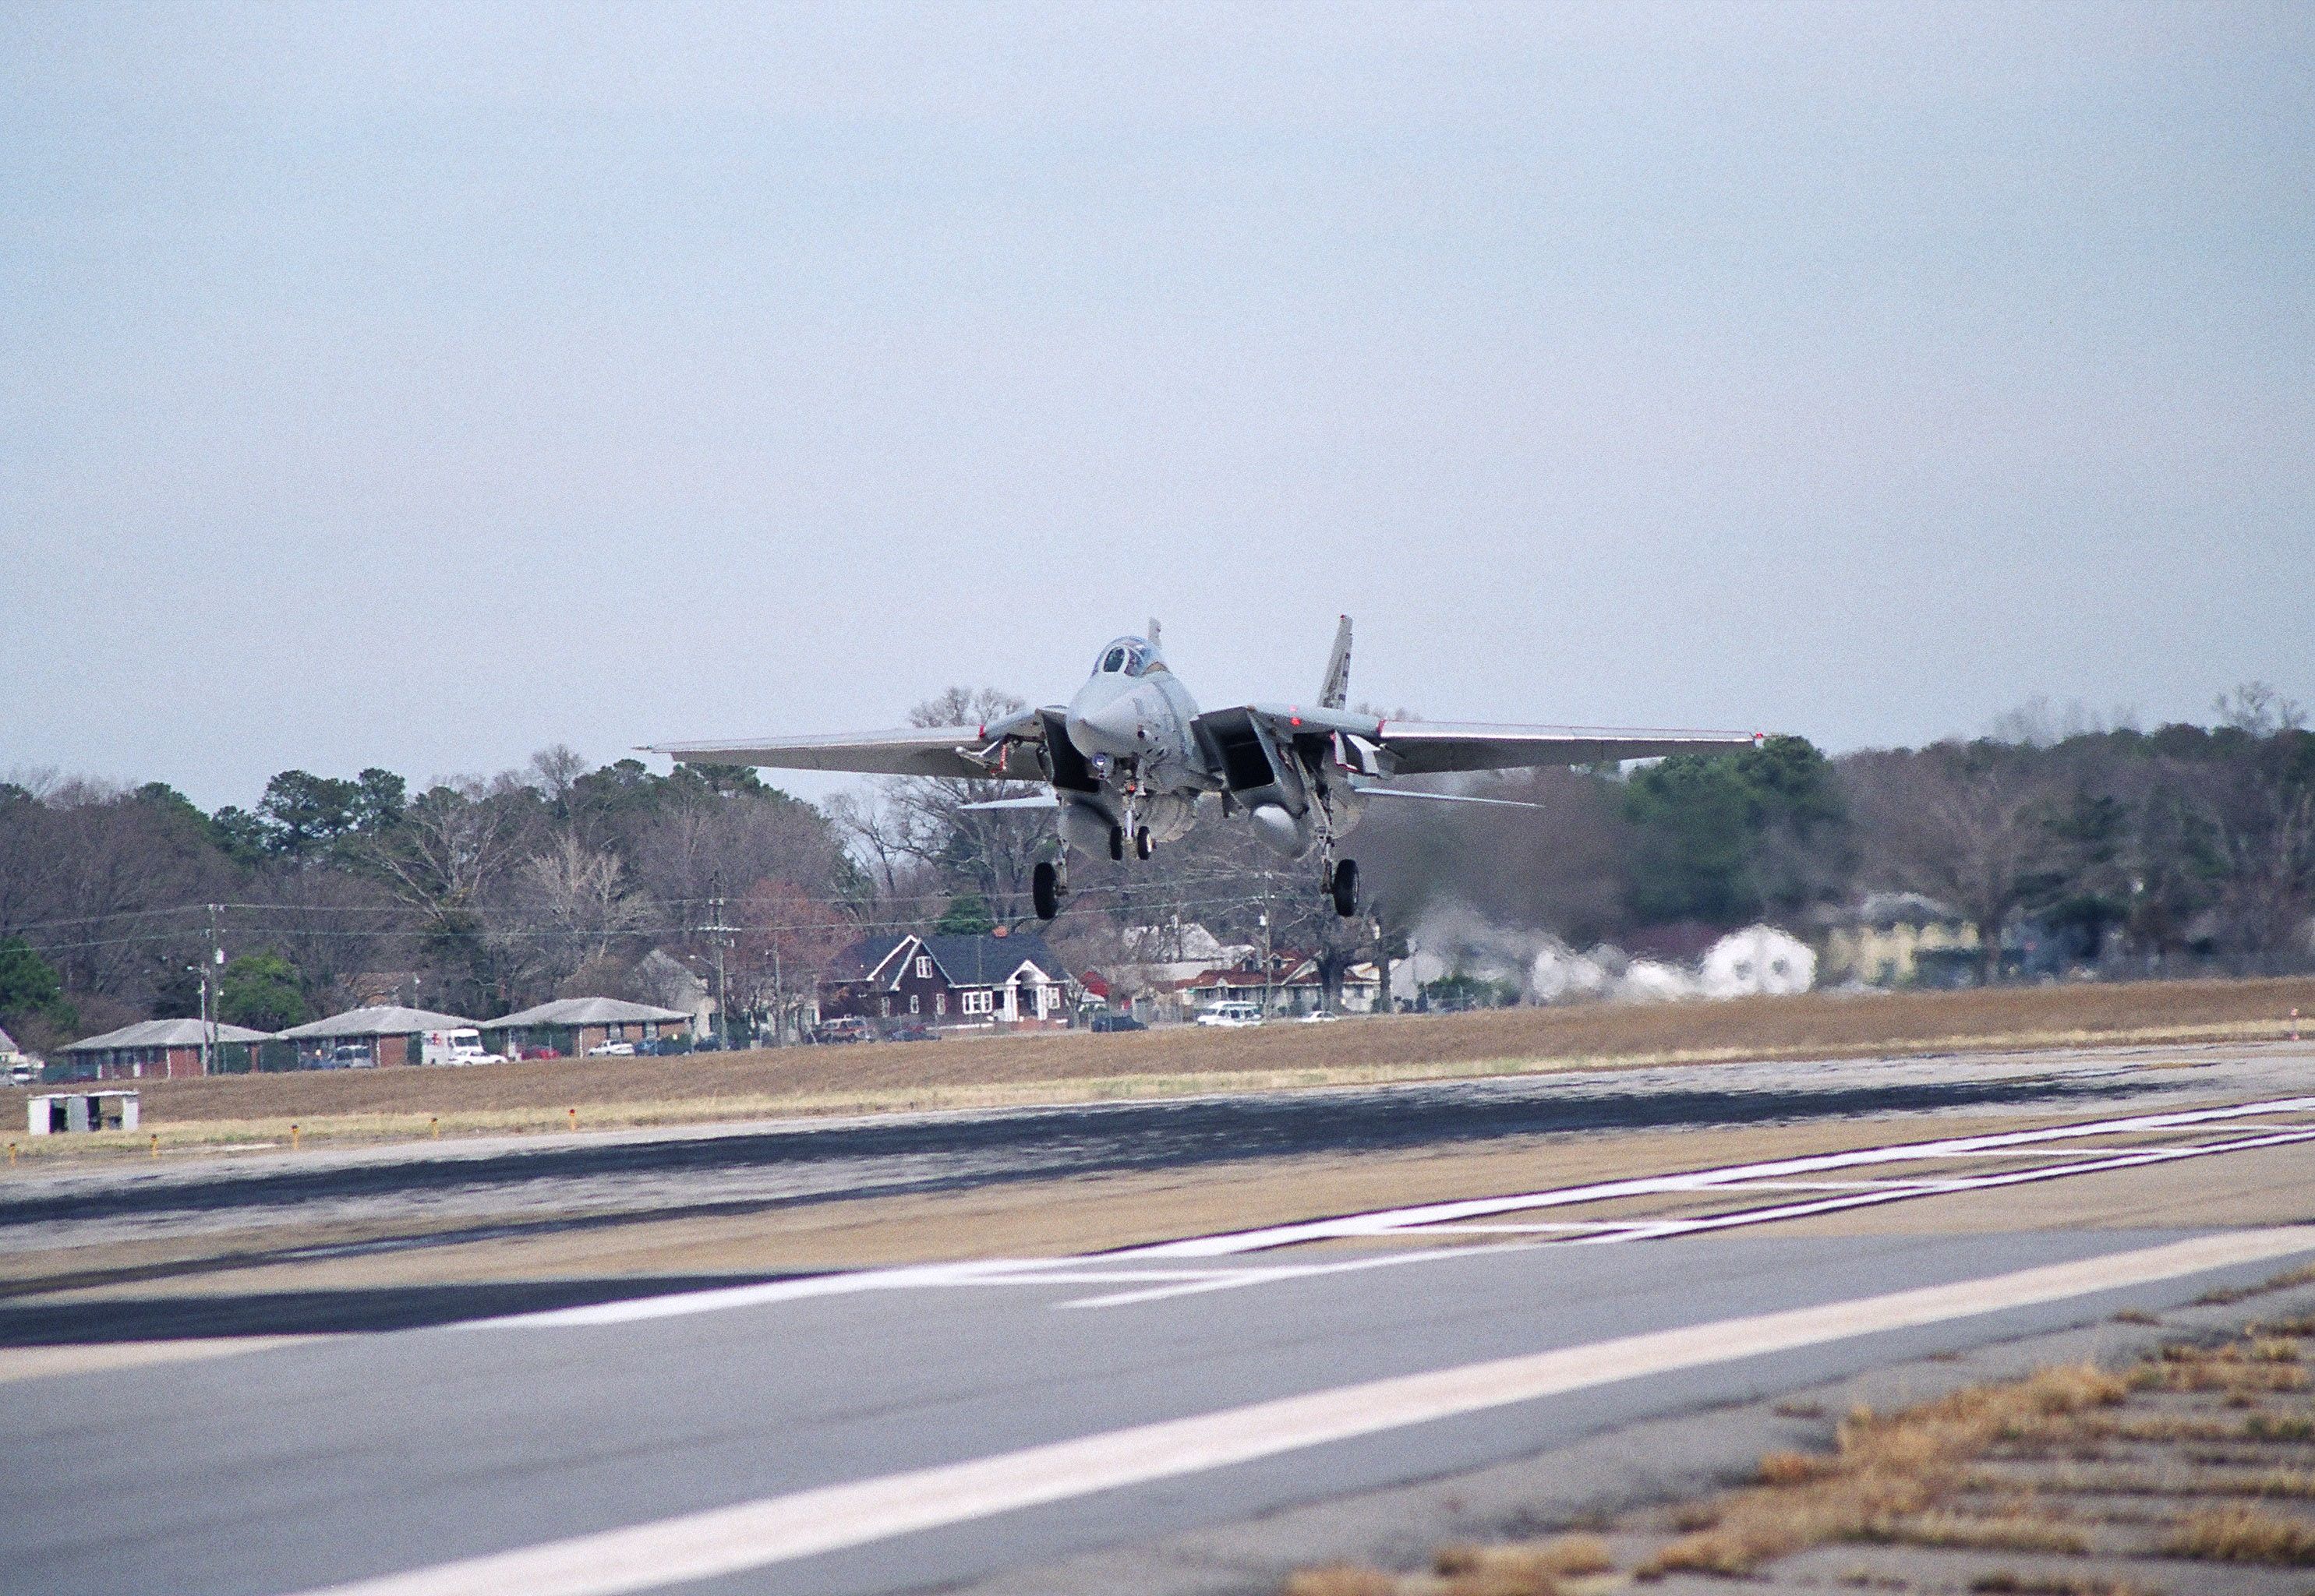F14: (628, 612, 1794, 917)
